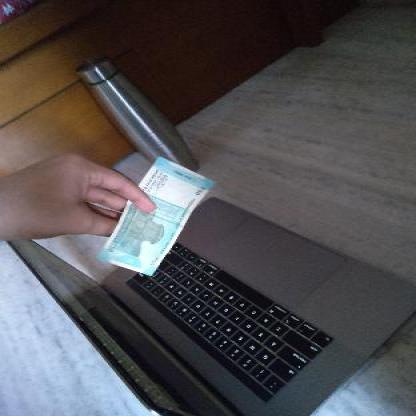New50Back: (101, 158, 203, 258)
